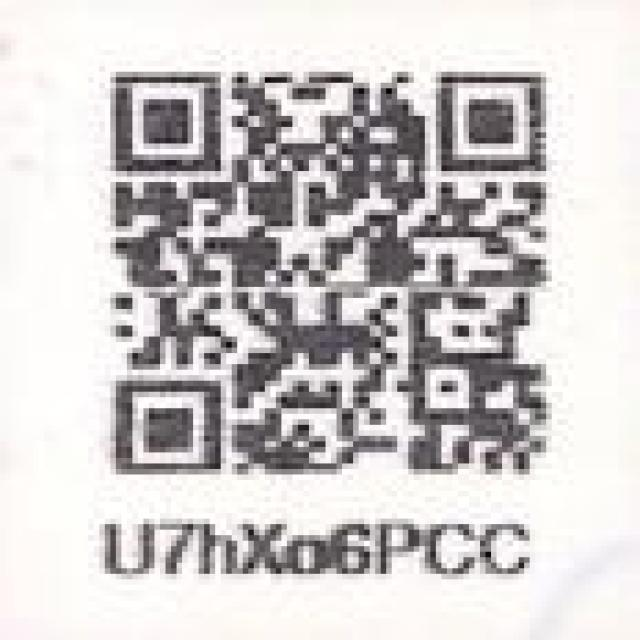qr-code: (103, 62, 562, 493)
